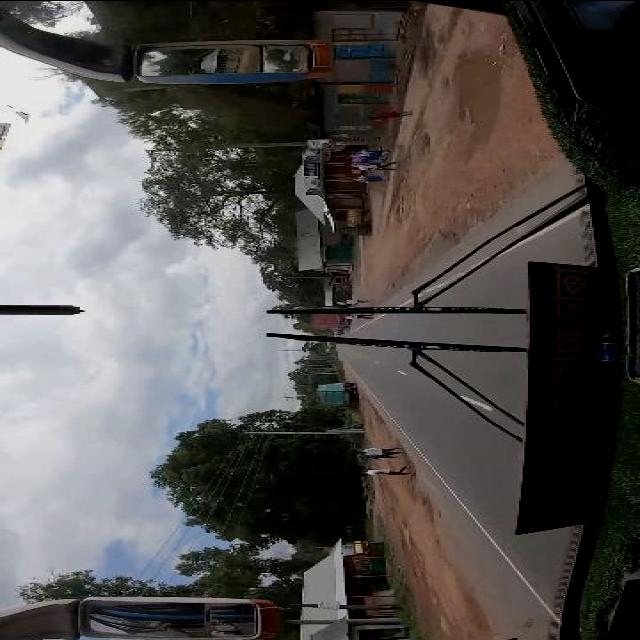truck: (316, 382, 354, 407), (309, 311, 347, 331), (342, 540, 368, 557)
